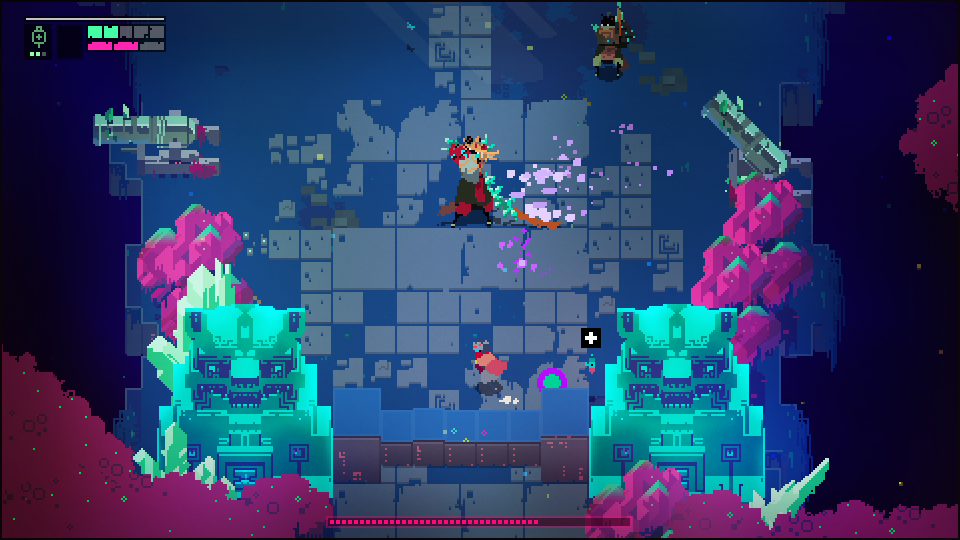hanged_man: (433, 133, 527, 226)
hanged_shot: (537, 365, 568, 395)
player: (472, 339, 508, 392)
